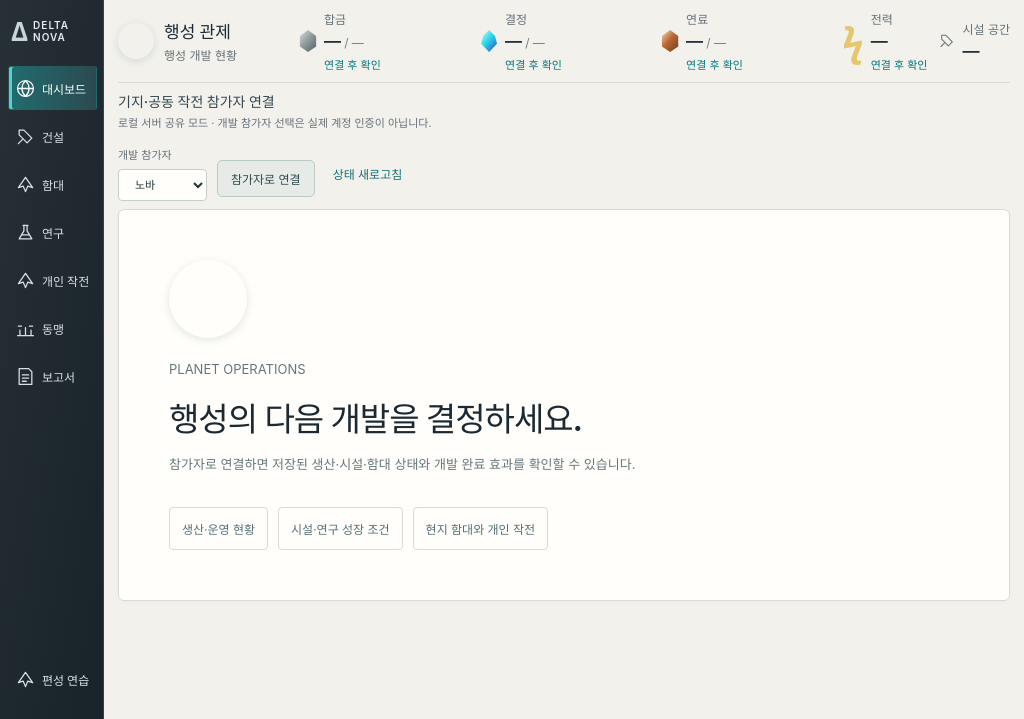
it: command center › opens the real alliance screen when an unfinished local practice report is saved
Click the button "동맹": (53, 328) [8,306,97,350]
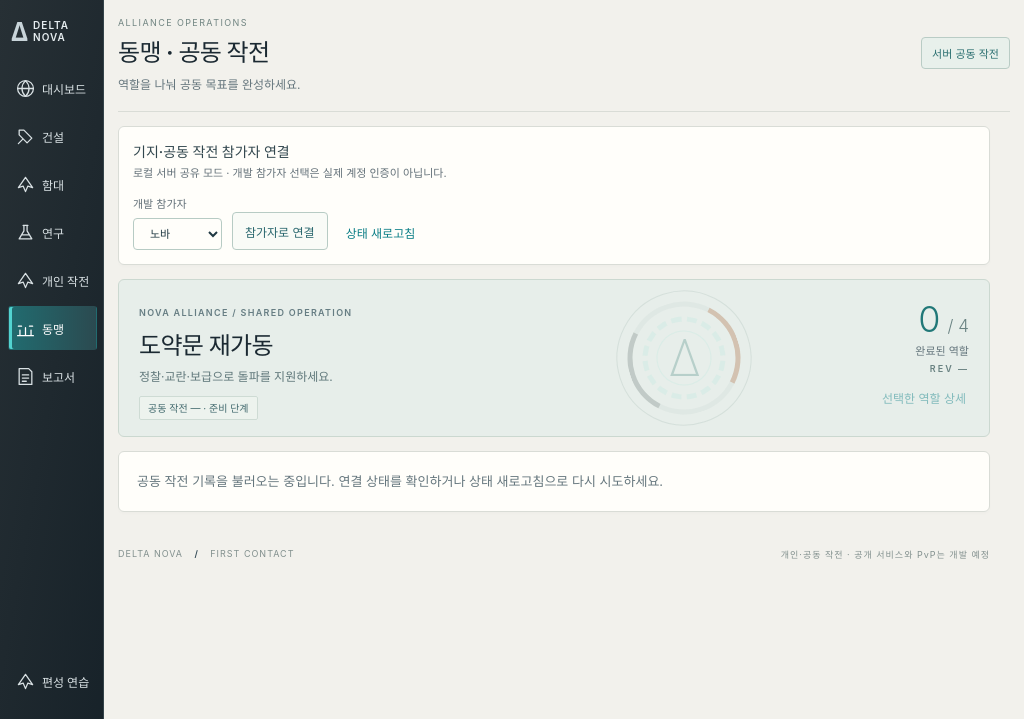
Expected: the heading "작전 보고서" is not shown
Expected: the heading "도약문 재가동" is shown, [139,331,273,360]
Click the button "편성 연습": (53, 681) [8,659,97,703]
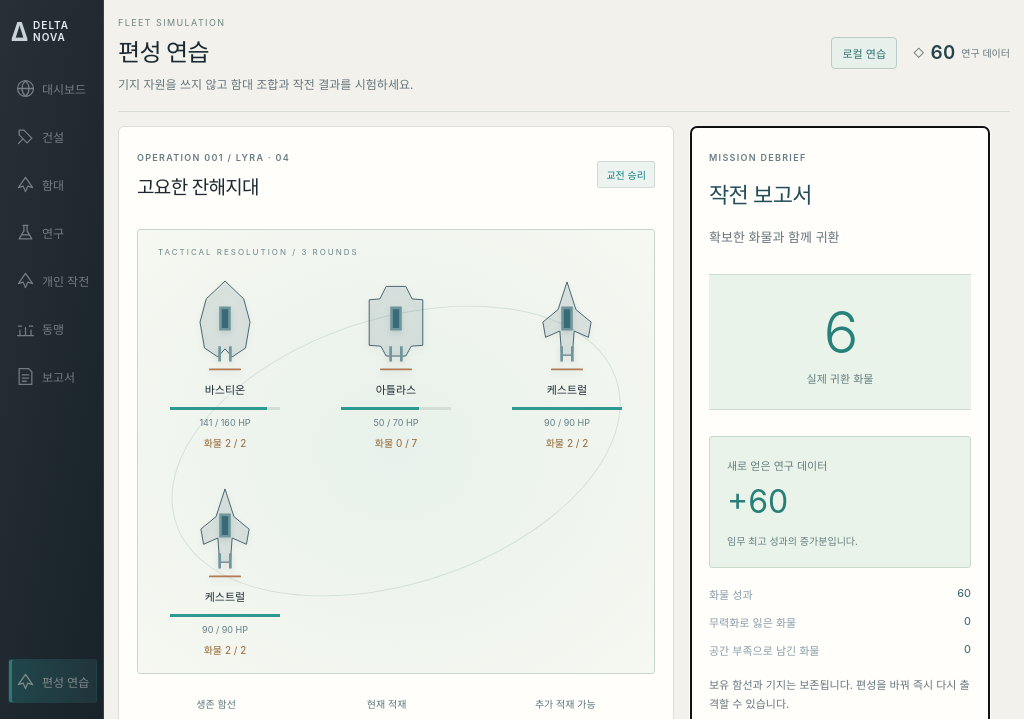
Expected: the heading "작전 보고서" is shown, [709,182,812,208]
